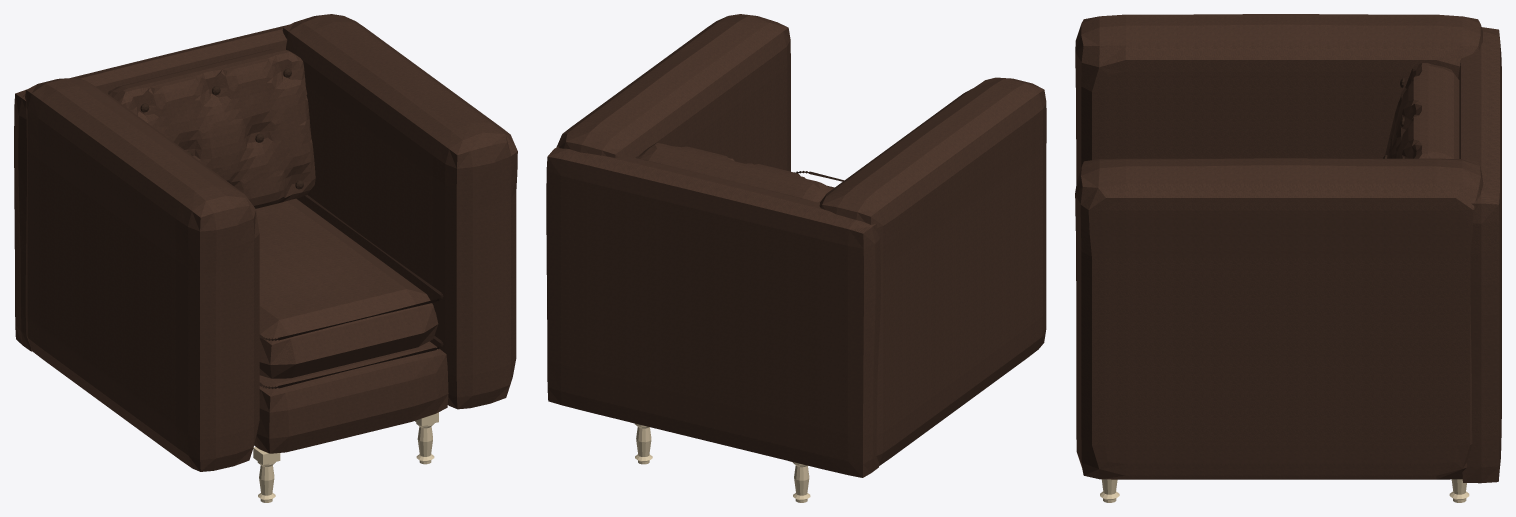
The model's file is BIB-ARM-std.glb.
The picture shows the model from 3 angles, left to right: view 1: azimuth 30°, elevation 25°; view 2: azimuth 150°, elevation 25°; view 3: azimuth 270°, elevation 25°; orthographic projection. The views are drawn at different scales.
Visible parts, largest first — view 1: arm-pad-l:fabric:eyJwcmVzZXQiOiJ2ZWx2ZXQiLCJ3YXJwIjoiY2hvY29, arm-pad-r:fabric:eyJwcmVzZXQiOiJ2ZWx2ZXQiLCJ3YXJwIjoiY2hvY29, seat:fabric:eyJwcmVzZXQiOiJ2ZWx2ZXQiLCJ3YXJwIjoiY2hvY29sYXRl, inside-back:fabric:eyJwcmVzZXQiOiJ2ZWx2ZXQiLCJ3YXJwIjoiY2hvY, deck:fabric:eyJwcmVzZXQiOiJ2ZWx2ZXQiLCJ3YXJwIjoiY2hvY29sYXRl, back-pad:fabric:eyJwcmVzZXQiOiJ2ZWx2ZXQiLCJ3YXJwIjoiY2hvY29s, seat:piping:pbr, leg-fl:pbr, leg-fr:pbr; view 2: back-pad:fabric:eyJwcmVzZXQiOiJ2ZWx2ZXQiLCJ3YXJwIjoiY2hvY29s, arm-pad-l:fabric:eyJwcmVzZXQiOiJ2ZWx2ZXQiLCJ3YXJwIjoiY2hvY29, arm-pad-r:fabric:eyJwcmVzZXQiOiJ2ZWx2ZXQiLCJ3YXJwIjoiY2hvY29, inside-back:fabric:eyJwcmVzZXQiOiJ2ZWx2ZXQiLCJ3YXJwIjoiY2hvY, leg-bl:pbr, leg-br:pbr; view 3: arm-pad-r:fabric:eyJwcmVzZXQiOiJ2ZWx2ZXQiLCJ3YXJwIjoiY2hvY29, arm-pad-l:fabric:eyJwcmVzZXQiOiJ2ZWx2ZXQiLCJ3YXJwIjoiY2hvY29, back-pad:fabric:eyJwcmVzZXQiOiJ2ZWx2ZXQiLCJ3YXJwIjoiY2hvY29s, inside-back:fabric:eyJwcmVzZXQiOiJ2ZWx2ZXQiLCJ3YXJwIjoiY2hvY.
Part boxes in pixels (x1,y1,x2,y2): arm-pad-l:fabric:eyJwcmVzZXQiOiJ2ZWx2ZXQiLCJ3YXJwIjoiY2hvY29: (25,78,259,471); arm-pad-r:fabric:eyJwcmVzZXQiOiJ2ZWx2ZXQiLCJ3YXJwIjoiY2hvY29: (282,14,517,409); seat:fabric:eyJwcmVzZXQiOiJ2ZWx2ZXQiLCJ3YXJwIjoiY2hvY29sYXRl: (256,198,438,378); inside-back:fabric:eyJwcmVzZXQiOiJ2ZWx2ZXQiLCJ3YXJwIjoiY2hvY: (107,48,315,208); deck:fabric:eyJwcmVzZXQiOiJ2ZWx2ZXQiLCJ3YXJwIjoiY2hvY29sYXRl: (254,341,448,453); back-pad:fabric:eyJwcmVzZXQiOiJ2ZWx2ZXQiLCJ3YXJwIjoiY2hvY29s: (14,24,288,351); seat:piping:pbr: (259,195,443,388); leg-fl:pbr: (253,447,280,502); leg-fr:pbr: (415,412,438,464); back-pad:fabric:eyJwcmVzZXQiOiJ2ZWx2ZXQiLCJ3YXJwIjoiY2hvY29s: (546,146,880,477); arm-pad-l:fabric:eyJwcmVzZXQiOiJ2ZWx2ZXQiLCJ3YXJwIjoiY2hvY29: (819,77,1046,465); arm-pad-r:fabric:eyJwcmVzZXQiOiJ2ZWx2ZXQiLCJ3YXJwIjoiY2hvY29: (556,14,790,171); inside-back:fabric:eyJwcmVzZXQiOiJ2ZWx2ZXQiLCJ3YXJwIjoiY2hvY: (637,142,831,202); leg-bl:pbr: (790,461,810,502); leg-br:pbr: (630,422,652,464); arm-pad-r:fabric:eyJwcmVzZXQiOiJ2ZWx2ZXQiLCJ3YXJwIjoiY2hvY29: (1075,158,1483,479); arm-pad-l:fabric:eyJwcmVzZXQiOiJ2ZWx2ZXQiLCJ3YXJwIjoiY2hvY29: (1075,14,1482,183); back-pad:fabric:eyJwcmVzZXQiOiJ2ZWx2ZXQiLCJ3YXJwIjoiY2hvY29s: (1458,27,1501,483); inside-back:fabric:eyJwcmVzZXQiOiJ2ZWx2ZXQiLCJ3YXJwIjoiY2hvY: (1385,63,1459,158).
Size of the model in its own units: 0.85 by 0.8 by 0.85.
12 materials, 6 textured.
